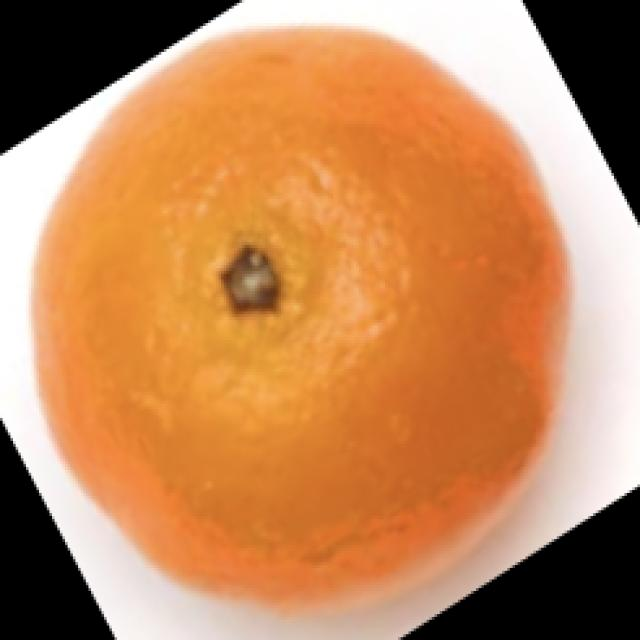orange: (18, 10, 569, 639)
